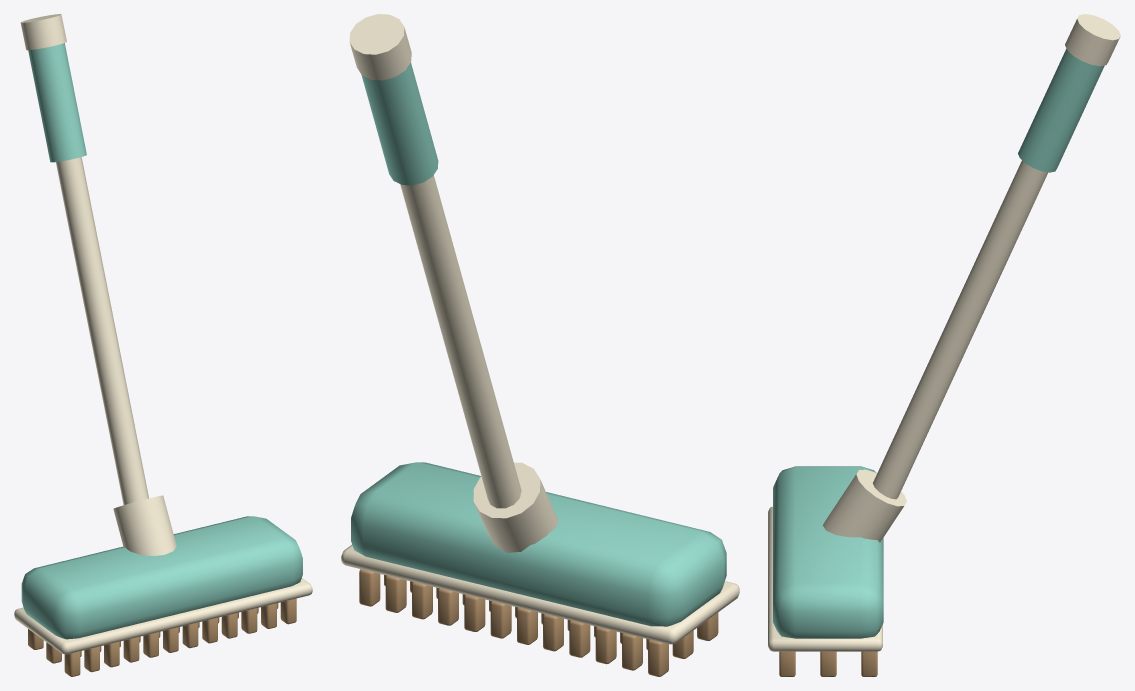
The model's file is tier_1_wide_plastic.glb.
3 views of the same model, side by side, from view 1: azimuth 30°, elevation 25°; view 2: azimuth 150°, elevation 25°; view 3: azimuth 270°, elevation 25° (orthographic). The views are drawn at different scales.
Parts seen in each view (by area): view 1: BrushTier1_Wide; view 2: BrushTier1_Wide; view 3: BrushTier1_Wide.
Part boxes in pixels (x1,y1,x2,y2): BrushTier1_Wide: (14,14,312,676); BrushTier1_Wide: (341,14,739,676); BrushTier1_Wide: (768,14,1120,676).
Size of the model in its own units: 0.79 by 1.61 by 0.8603.
